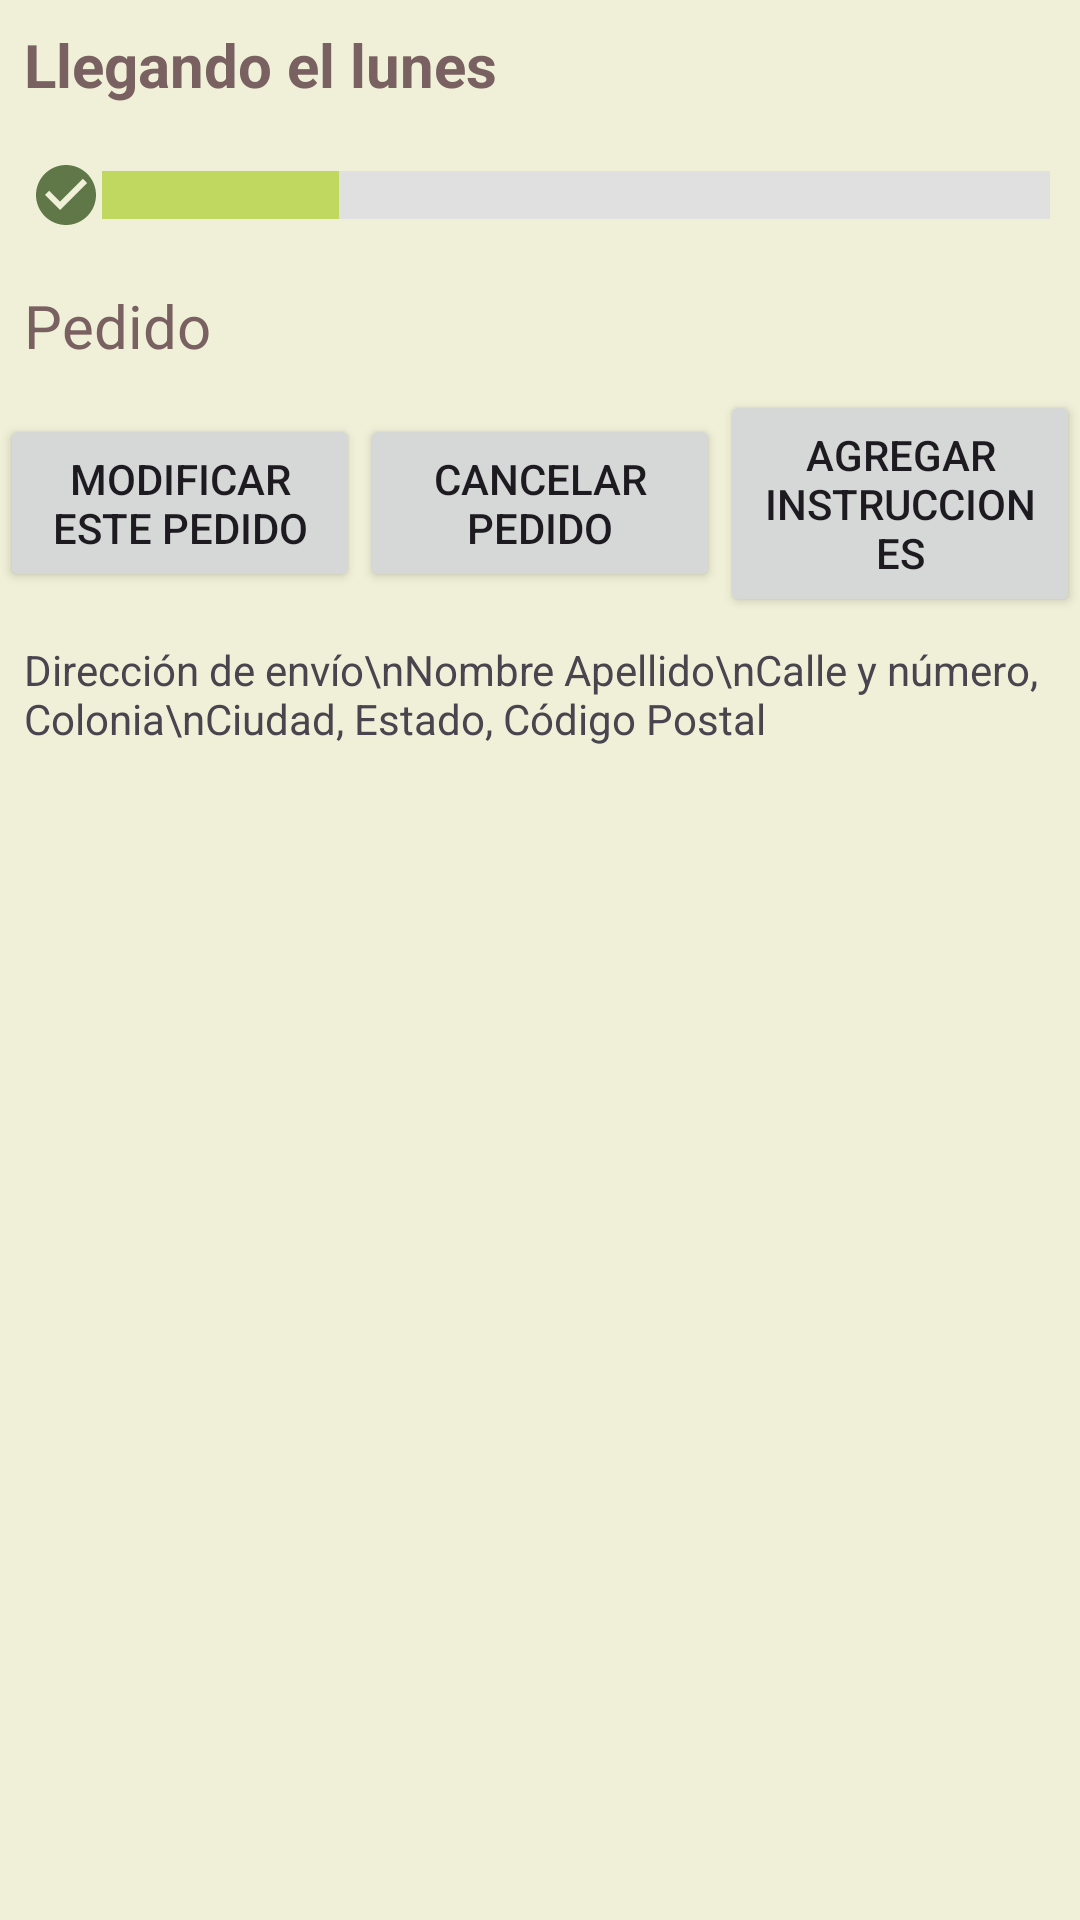

Where icons sit on this 1080 x 1920 app screen, as (x1, y1, x2, y2):
check circle: (36, 165, 96, 225)
